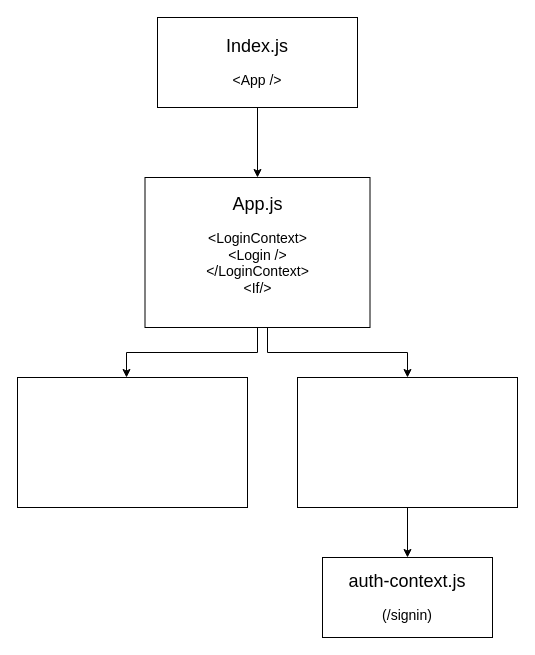
Image size: 535x655. Some labels were removed from this diagram. The shapes that lost their labels are listed below. From the top down, each one's centre as x and y in pixels, then its label:
point (132, 442): login.js <Login/> components with Context
point (407, 442): auth.js <Auth /> components with Context
